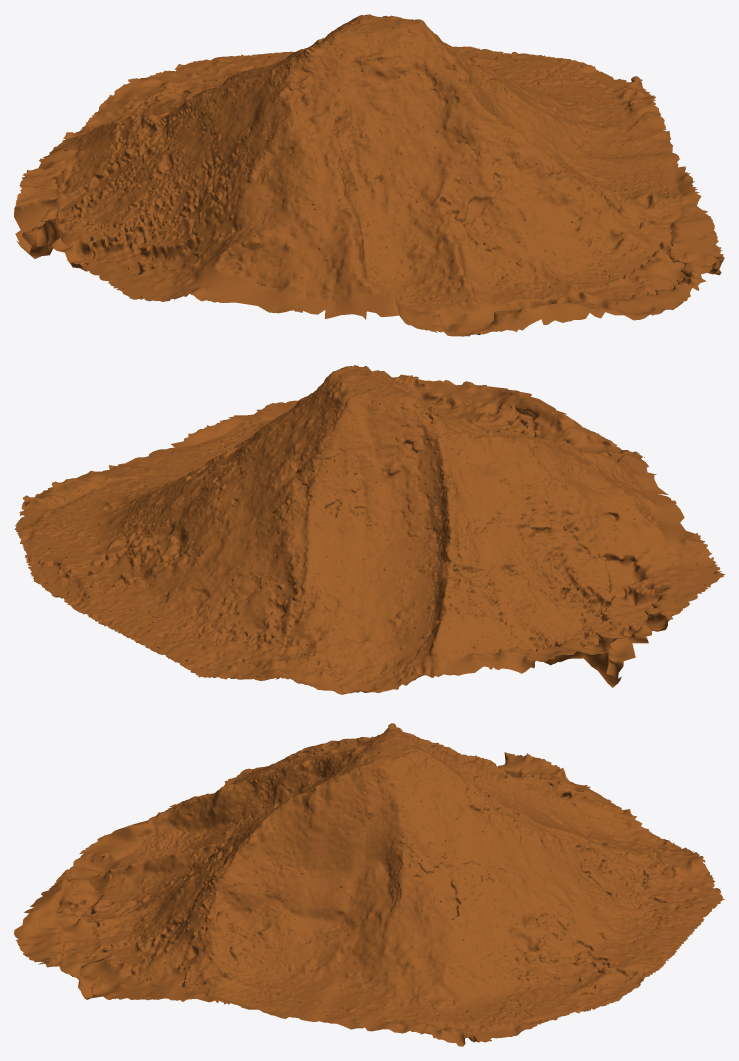
File: sand_hill.glb
The picture shows the model from 3 angles, top to bottom: view 1: azimuth 30°, elevation 25°; view 2: azimuth 150°, elevation 25°; view 3: azimuth 270°, elevation 25°; orthographic projection. The views are drawn at different scales.
Parts seen in each view (by area): view 1: Object_4, Object_3, Object_2, Object_5; view 2: Object_4, Object_3, Object_2, Object_5; view 3: Object_3, Object_4, Object_5, Object_2.
Part boxes in pixels (x1,y1,x2,y2): Object_4: [14, 16, 722, 335]; Object_3: [14, 14, 724, 336]; Object_2: [37, 14, 719, 328]; Object_5: [14, 15, 723, 333]; Object_4: [15, 366, 724, 689]; Object_3: [14, 365, 697, 693]; Object_2: [24, 366, 706, 691]; Object_5: [20, 367, 697, 694]; Object_3: [14, 728, 718, 1044]; Object_4: [22, 732, 724, 1042]; Object_5: [15, 723, 717, 1046]; Object_2: [23, 723, 719, 1043].
Size of the model in its own units: 2.24 by 0.6911 by 2.37.
